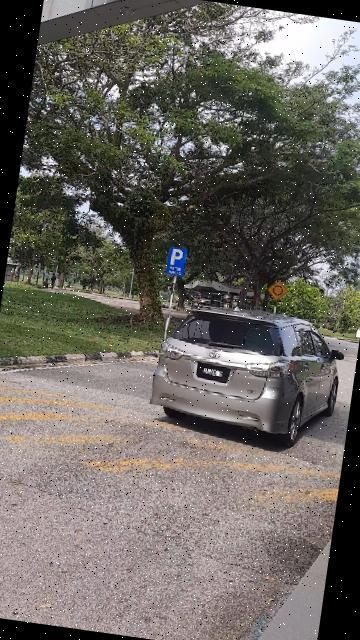License_Plate: (195, 361, 232, 386)
car: (146, 297, 350, 455)
